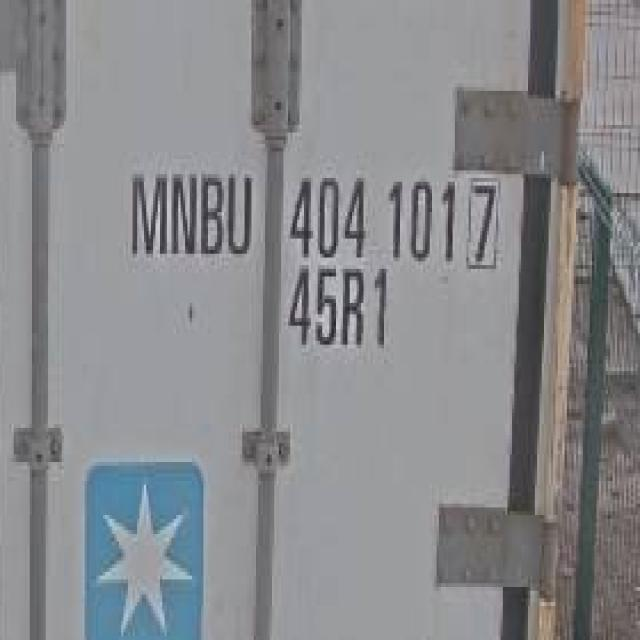dv: (463, 173, 502, 274)
owner: (124, 154, 255, 272)
serial: (286, 166, 459, 265)
size: (285, 265, 395, 360)
